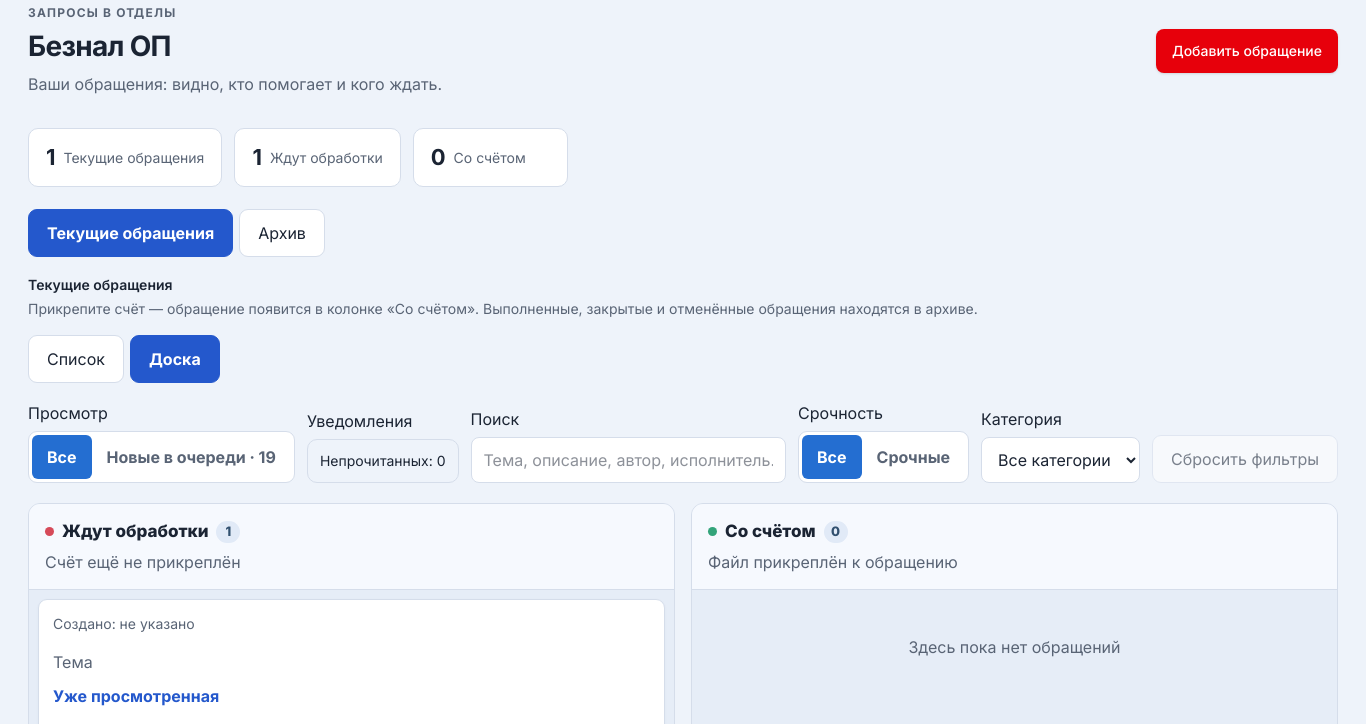
Test: sends unseen=1 before every paged request and owns its cache by actor and filter
This screenshot has width=1366, height=724.
Expected: the button with aria-label "Открыть обращение «Уже просмотренная»" is shown, x1=53 y1=674 x2=650 y2=718
Click the button "Новые в очереди · 19": click(191, 457) x1=92 y1=435 x2=291 y2=479
(page scrolled)
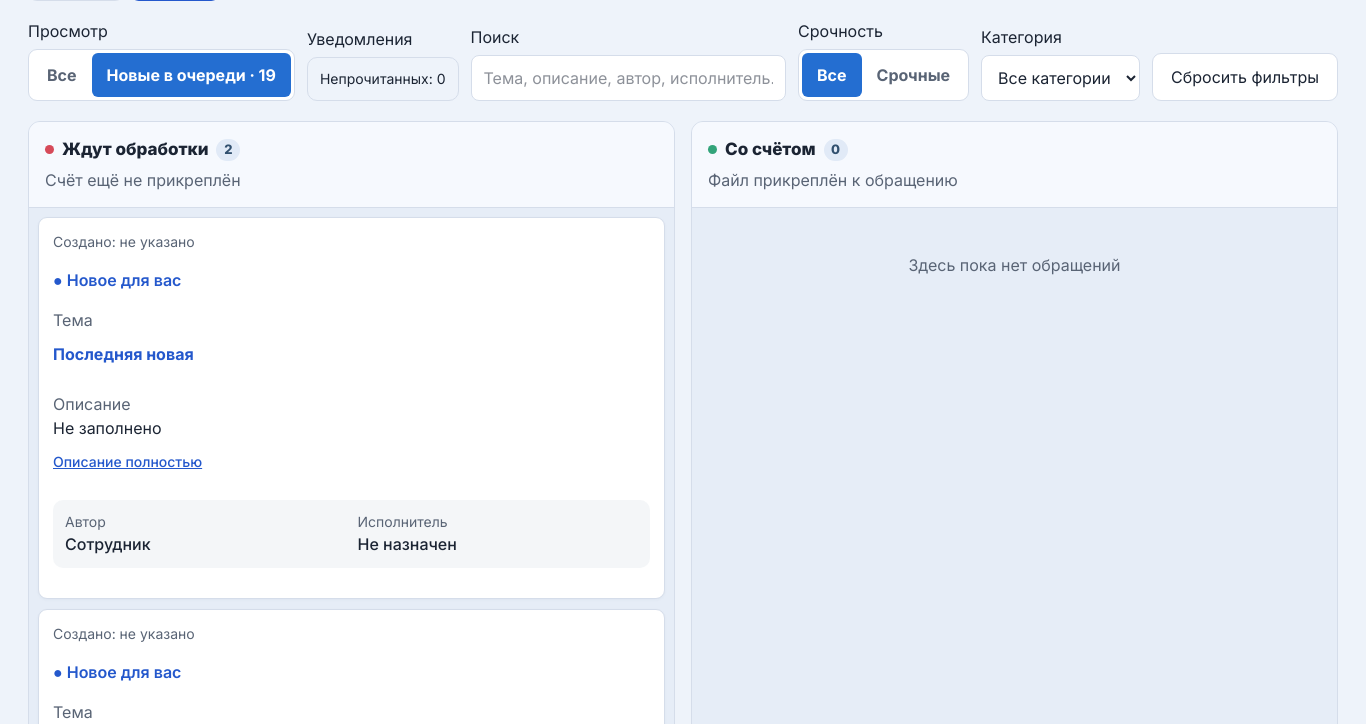
Now the button with aria-label "Открыть обращение «Последняя новая»" is shown, box x1=53 y1=332 x2=650 y2=376
